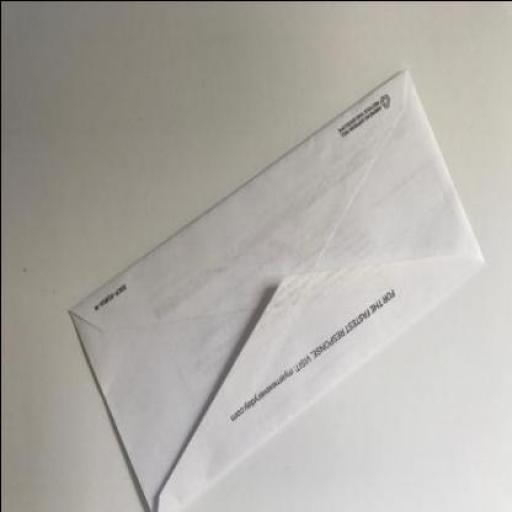paper: (66, 71, 485, 511)
